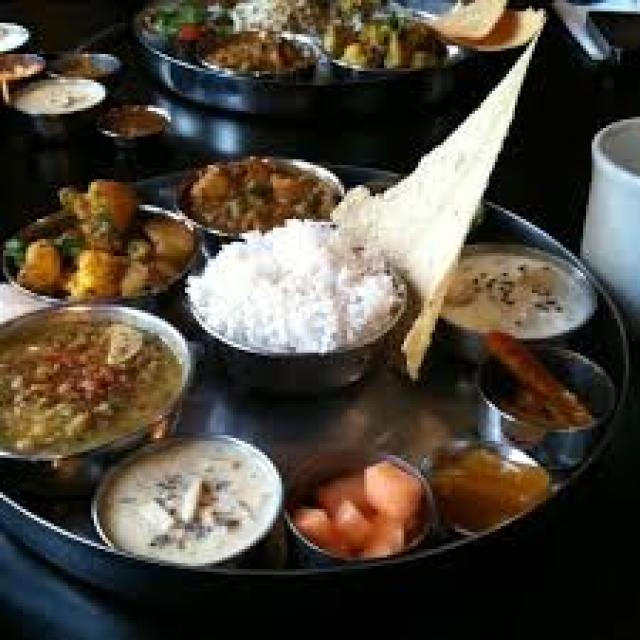dal: (438, 247, 594, 350)
rice: (196, 217, 342, 364)
roti: (13, 185, 199, 307)
sambar-rasam: (96, 101, 168, 140)
sweet: (88, 445, 283, 568)
veg-fry: (0, 299, 187, 468), (17, 181, 195, 310), (281, 443, 443, 576), (174, 147, 342, 242)
